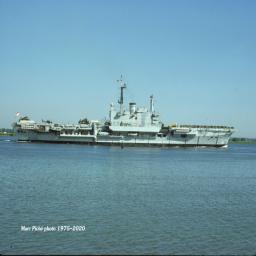Portanaves: (11, 74, 243, 154)
